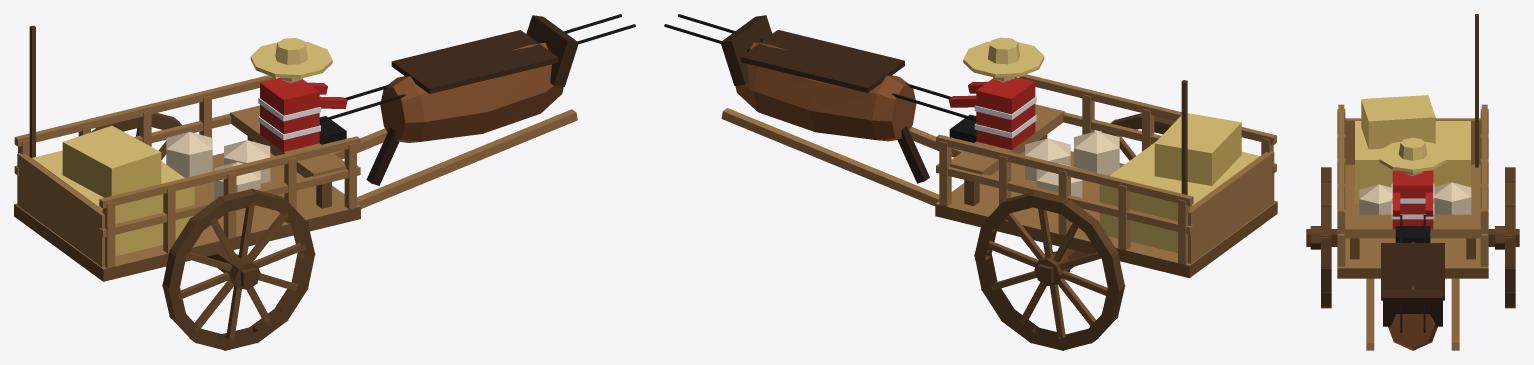
The model's file is carreta_body.obj.
The picture shows the model from 3 angles, left to right: view 1: azimuth 30°, elevation 25°; view 2: azimuth 150°, elevation 25°; view 3: azimuth 270°, elevation 25°; orthographic projection. The views are drawn at different scales.
Parts seen in each view (by area): view 1: carreta_body; view 2: carreta_body; view 3: carreta_body.
Part boxes in pixels (x1=…): carreta_body: x1=14, y1=14, x2=635, y2=350; carreta_body: x1=664, y1=14, x2=1277, y2=350; carreta_body: x1=1306, y1=14, x2=1519, y2=350.
Size of the model in its own units: 5.75 by 2.71 by 2.2.
